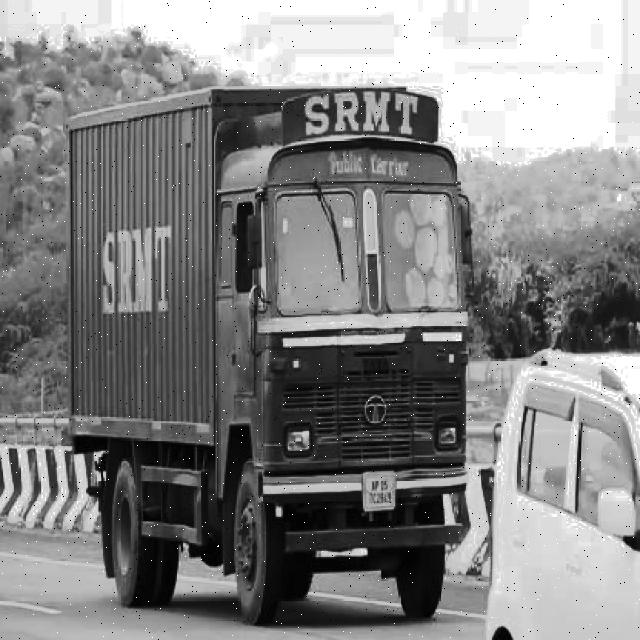HCV: (69, 82, 453, 603)
